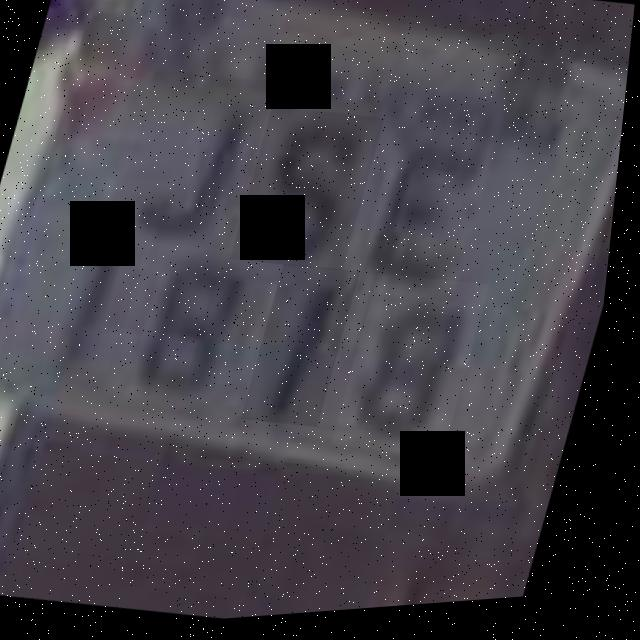1: (249, 264, 369, 437), (32, 212, 154, 378)
8: (339, 273, 498, 471)
B: (119, 242, 270, 414)
J: (112, 64, 278, 260)
S: (234, 104, 389, 283)
